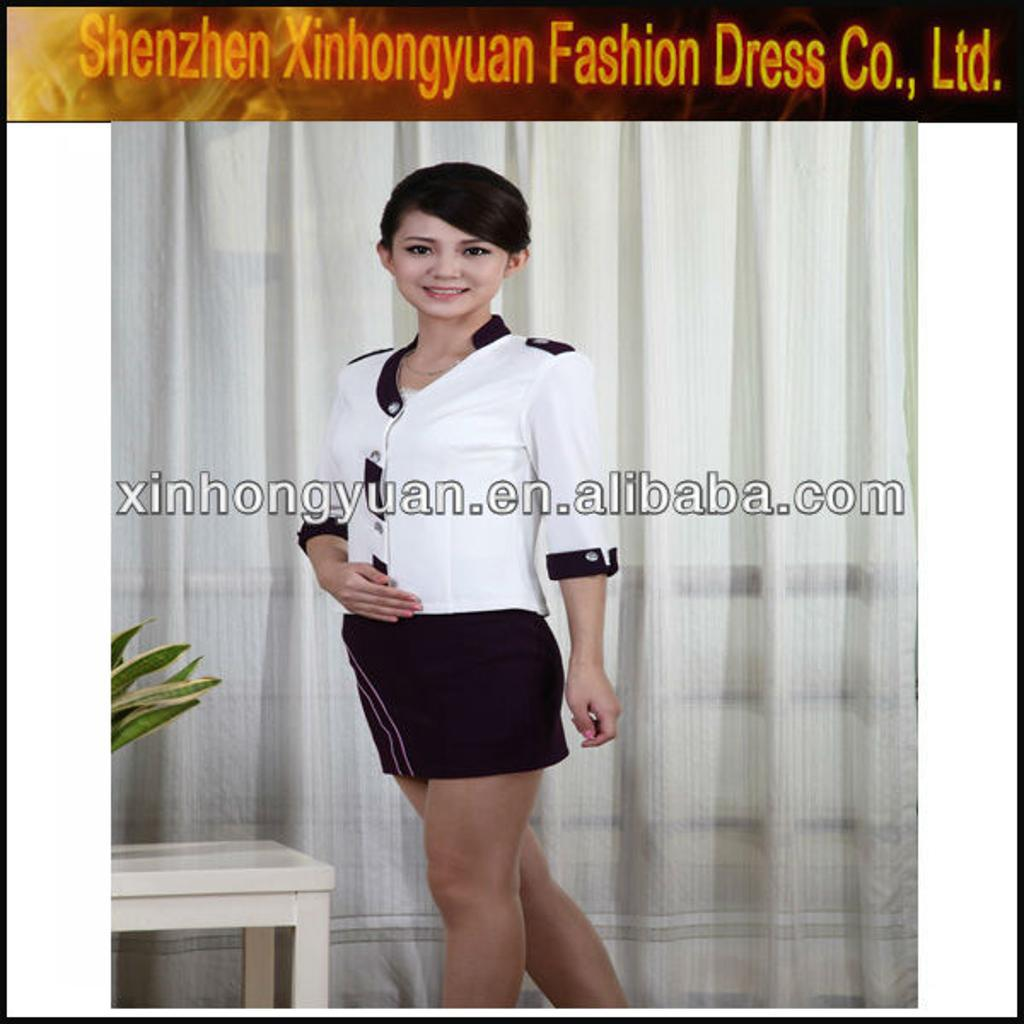face: (387, 207, 509, 323)
